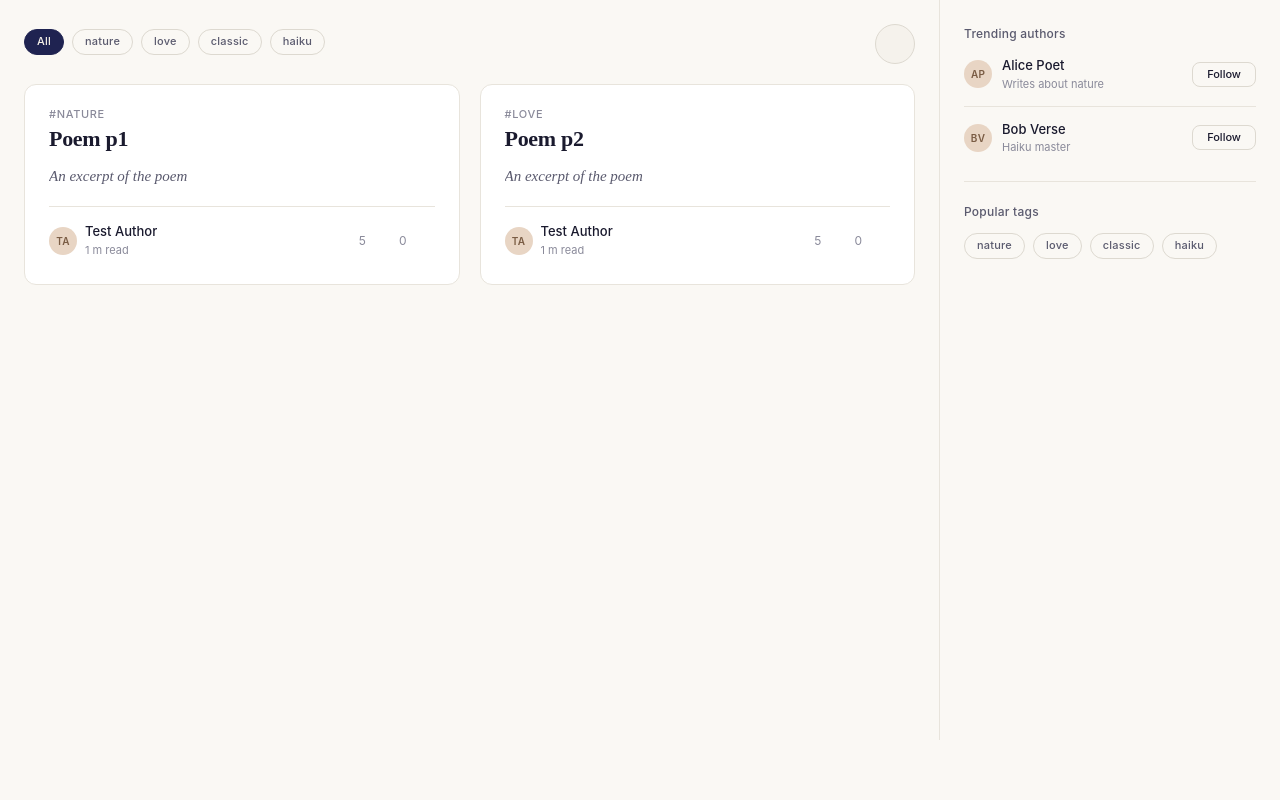
Test: FeedClient › filters poems when a tag is clicked
The image size is (1280, 800).
Note: Click "nature" tag in the top strip
Click the text "nature" next to "All" at (103, 42), box [72,29,133,55]
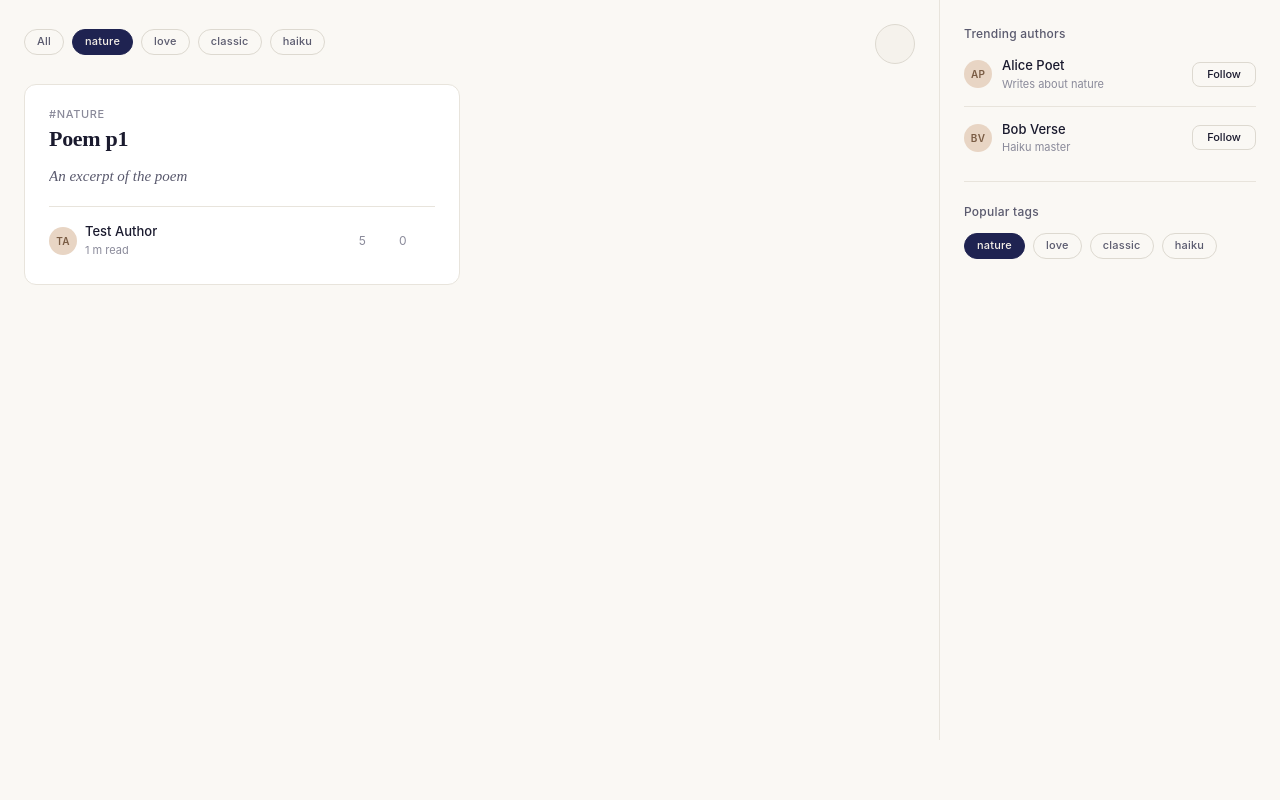
Expected: the heading "Poem p1" is shown, [49,126,128,151]
Now the heading "Poem p2" is gone
